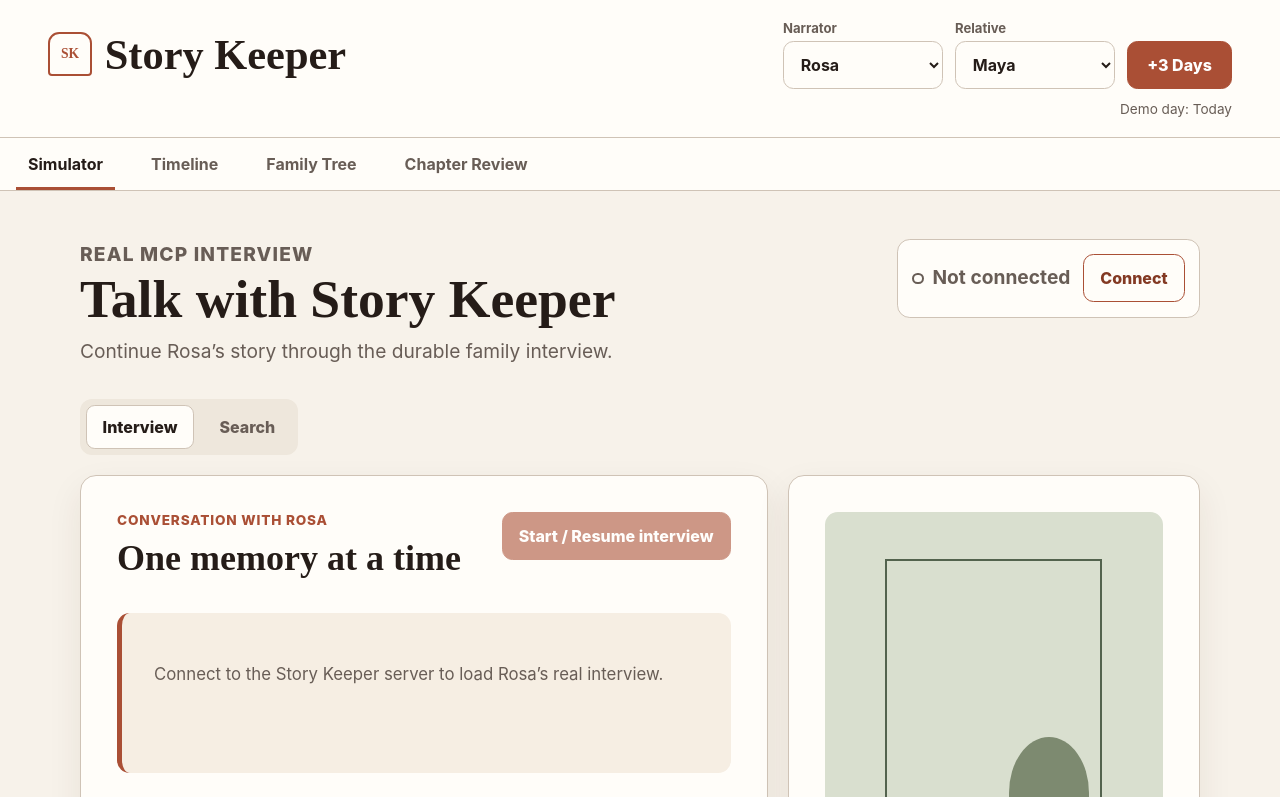
Test: SimulatorApp › retains the Phase 0 time-jump control
What coordinates should you click on to do the following:
click the button "+3 Days"
I would click on:
 (1180, 65)
Its box is [1127, 41, 1232, 89].
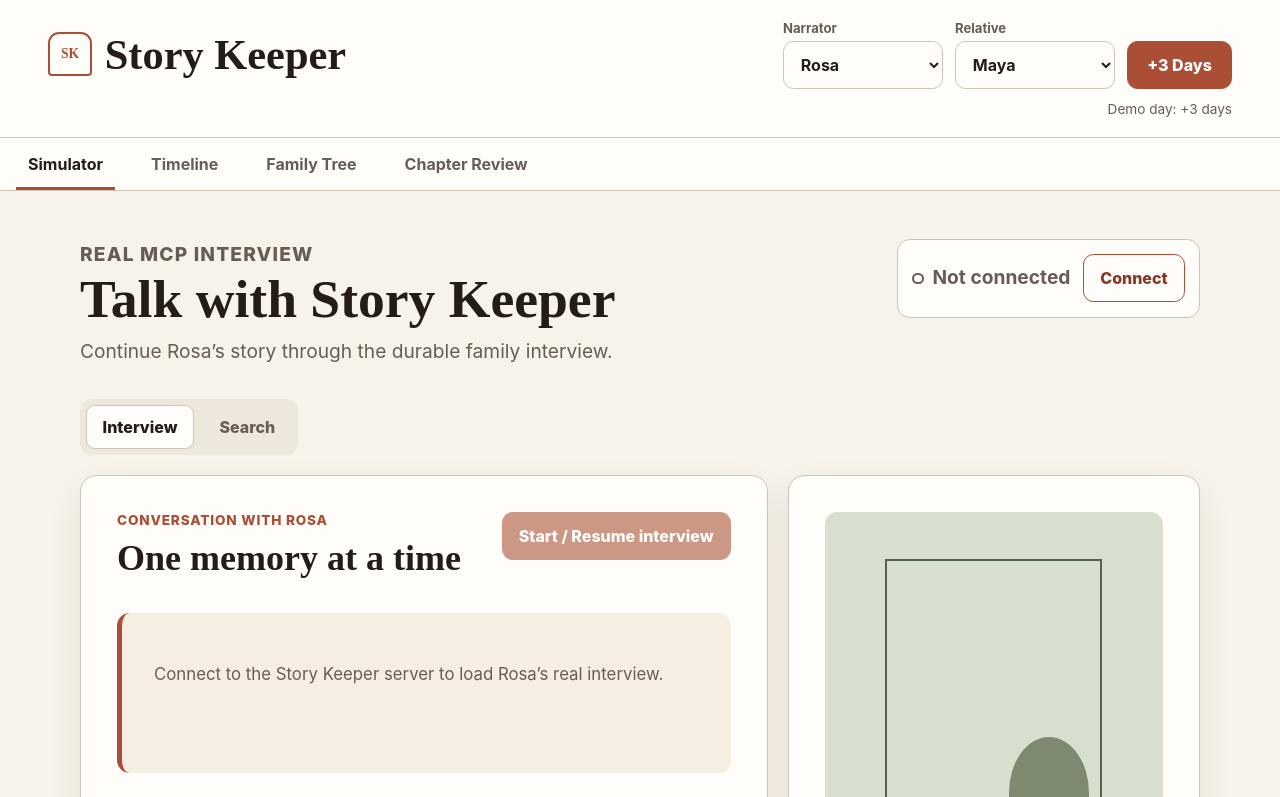
Result: the text "Demo day: +3 days" is shown at [1108, 101, 1232, 117]
